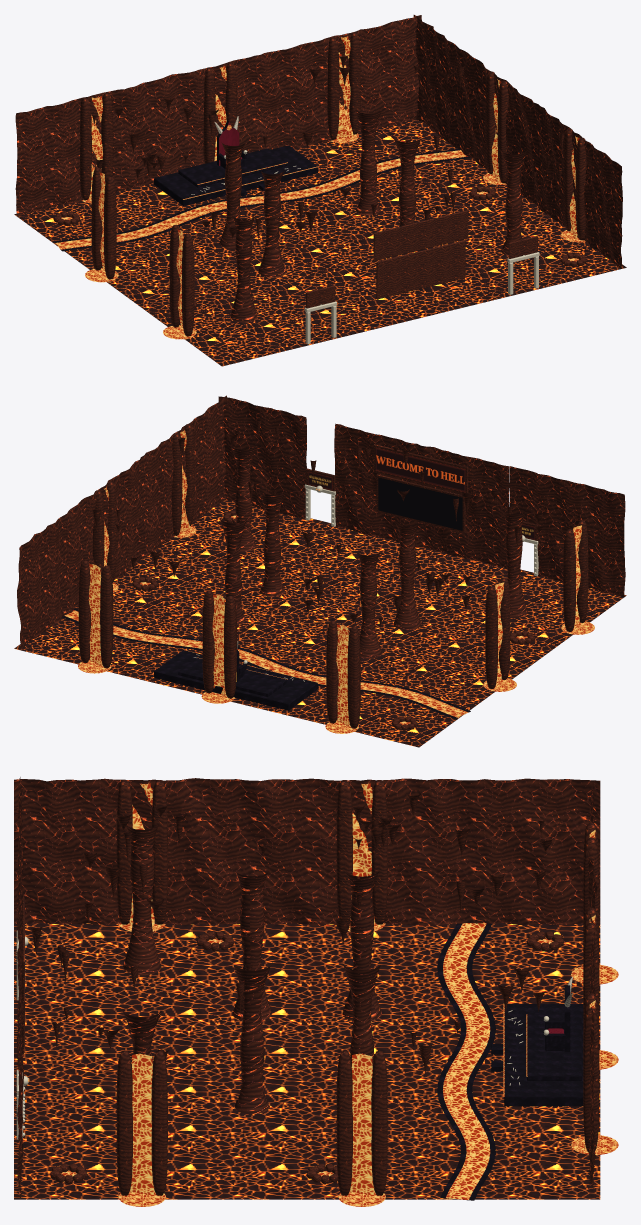
Rendered from lb4_hell.glb.
3 views of the same model, one above another, from view 1: azimuth 30°, elevation 25°; view 2: azimuth 150°, elevation 25°; view 3: azimuth 270°, elevation 25° (orthographic). The views are drawn at different scales.
Parts seen in each view (by area): view 1: lb4_hell; view 2: lb4_hell; view 3: lb4_hell.
Part boxes in pixels (bbox=[...]): lb4_hell: bbox=[14, 15, 626, 366]; lb4_hell: bbox=[14, 395, 626, 747]; lb4_hell: bbox=[14, 777, 618, 1206].
Size of the model in its own units: 77.8 by 17.48 by 66.9.
12 materials, 8 textured.
